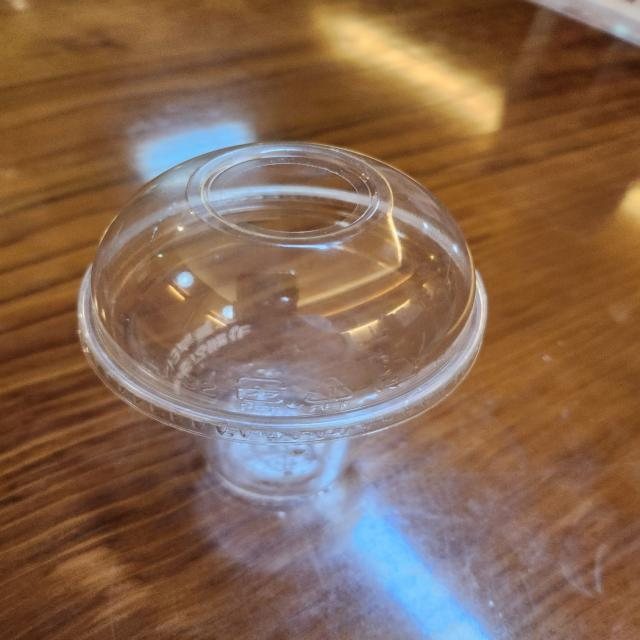plastic_cup_lid: (63, 132, 475, 446)
